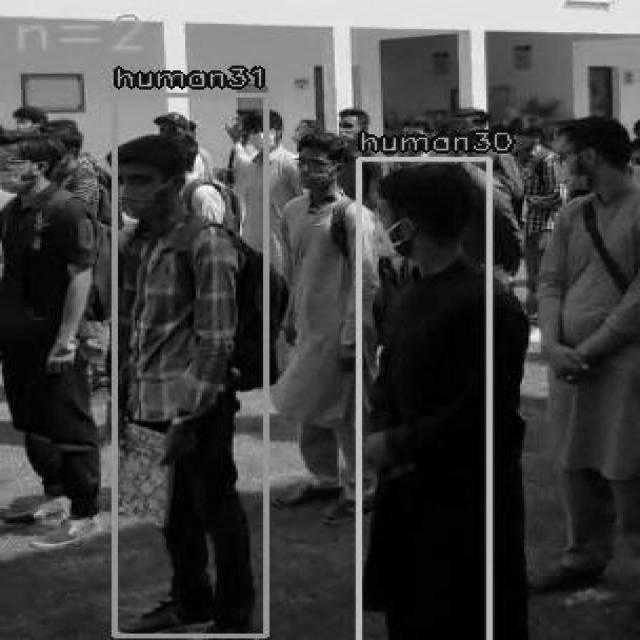person: (112, 92, 266, 636), (356, 157, 488, 640)
